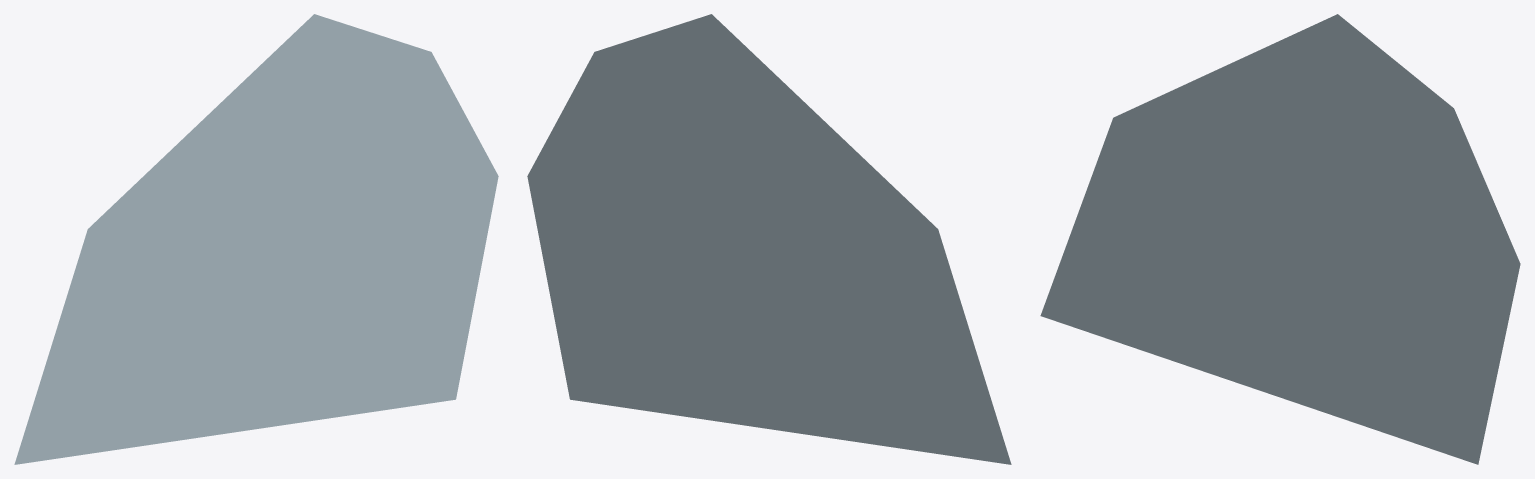
3 renders of one model, left to right at view 1: azimuth 30°, elevation 25°; view 2: azimuth 150°, elevation 25°; view 3: azimuth 330°, elevation 25°, orthographic.
Parts seen in each view (by area): view 1: pCube42; view 2: pCube42; view 3: pCube42.
Boxes of the visible parts, left/top/right/bottom form: pCube42: left=14, top=14, right=498, bottom=464; pCube42: left=527, top=14, right=1011, bottom=464; pCube42: left=1040, top=14, right=1520, bottom=464.
Size of the model in its own units: 51.32 by 42.56 by 0.
